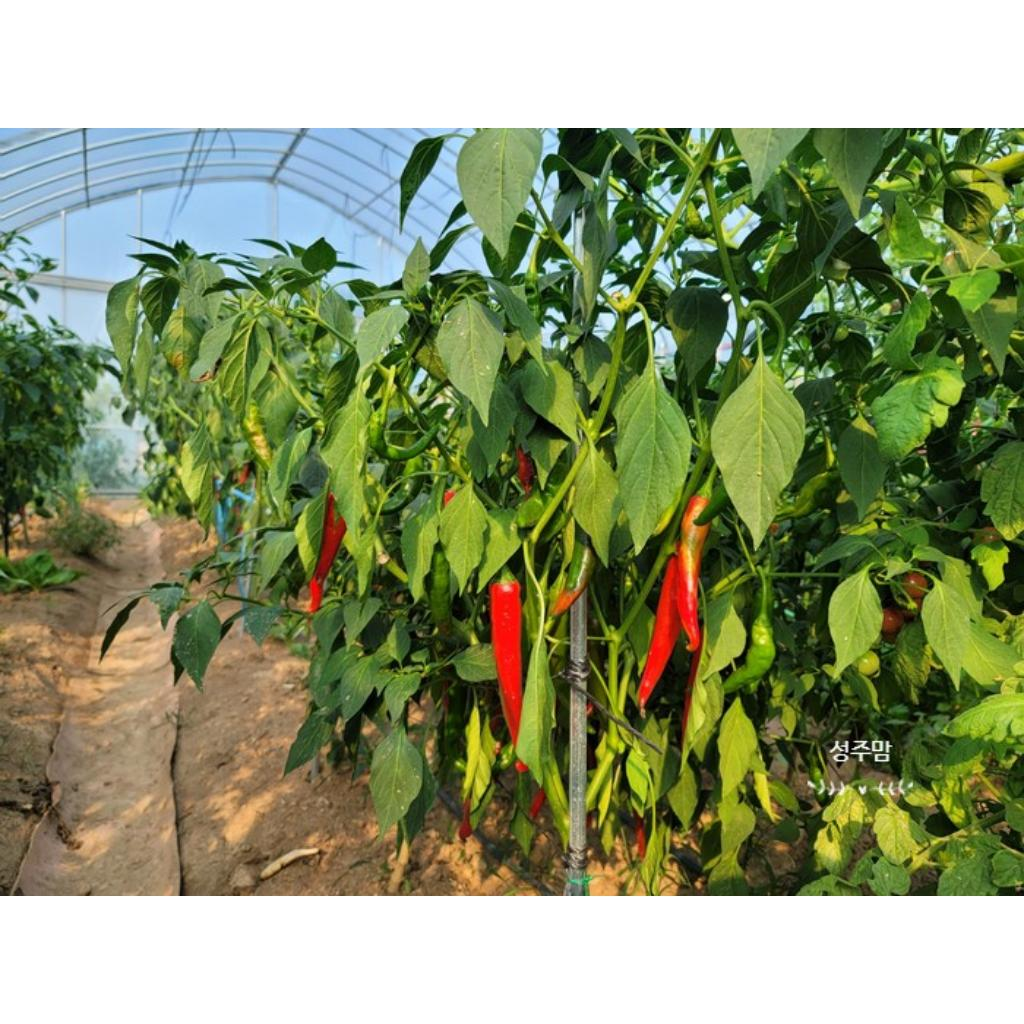chili: (638, 554, 682, 709), (490, 580, 522, 743), (678, 496, 710, 653), (308, 492, 346, 613)
